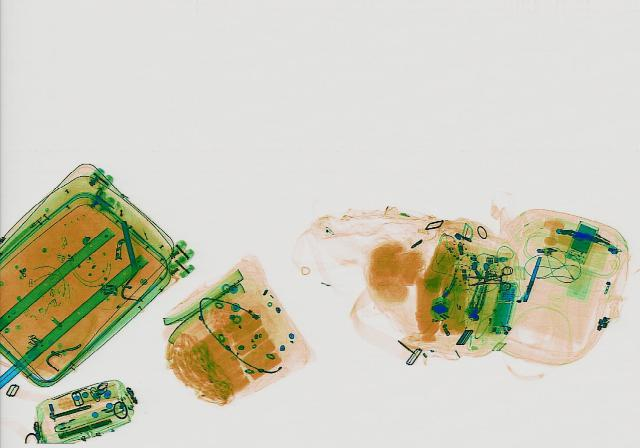Scissors: (466, 264, 516, 290)
